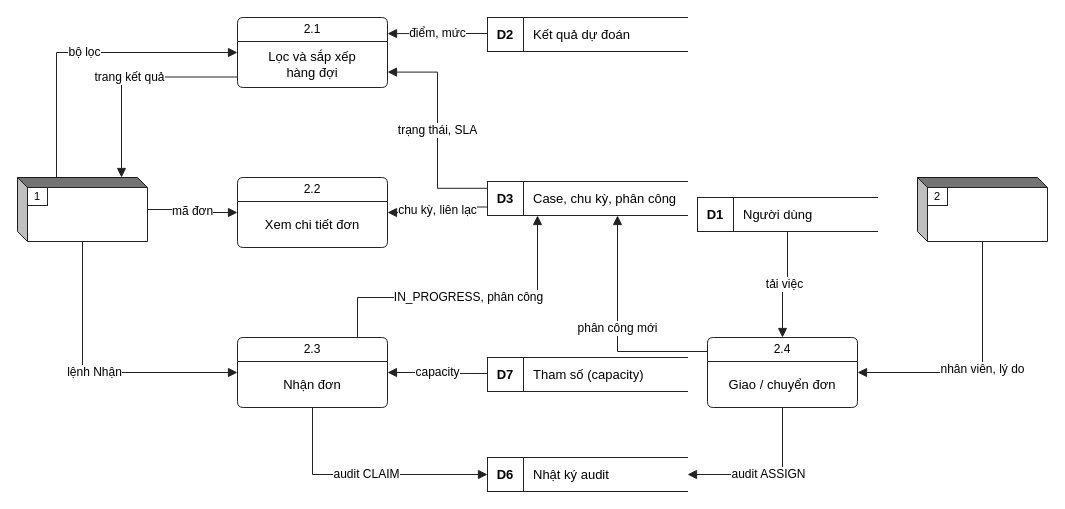
Image size: 1065x509. Some labels were removed from this diagram. The box of each missing label's shape, as (x1, y1, x2, y2) in pixels:
Nhân viên CSKH: (16, 176, 148, 242)
Quản lý: (916, 176, 1048, 242)
